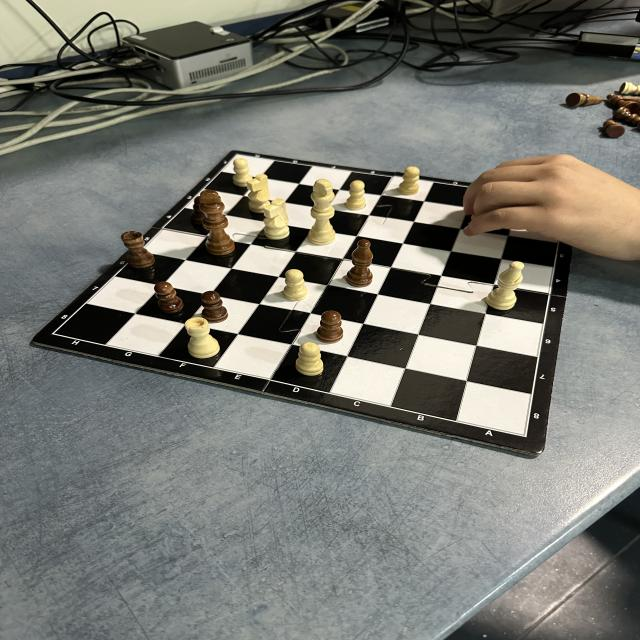Black-Bishop: (346, 239, 374, 287)
Black-King: (198, 190, 236, 256)
Black-Pawn: (154, 281, 185, 314), (200, 290, 228, 324), (316, 310, 343, 343), (192, 195, 204, 224)
Black-Rook: (120, 231, 156, 269)
White-Bishop: (485, 261, 525, 311)
White-King: (308, 178, 337, 246)
White-Knight: (263, 198, 290, 240), (246, 174, 271, 213)
White-Pawn: (295, 342, 324, 376), (282, 268, 308, 301), (398, 167, 420, 196), (345, 180, 366, 210), (232, 158, 253, 188)
White-Rook: (184, 317, 222, 359)
